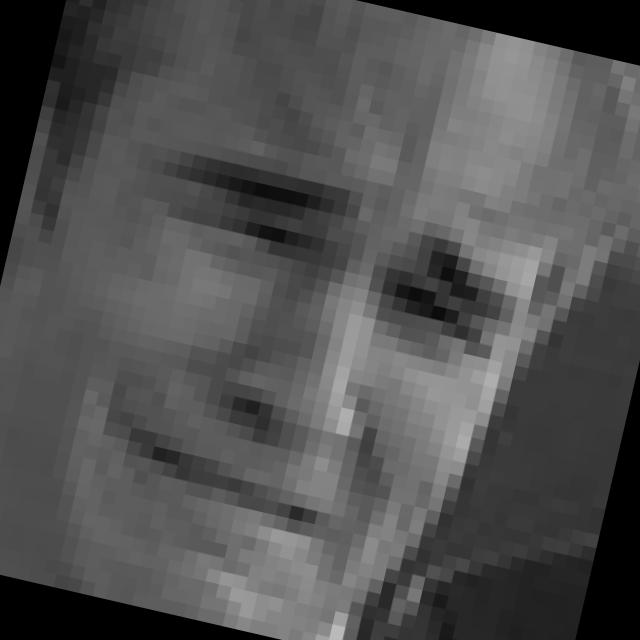sad: (62, 136, 543, 594)
